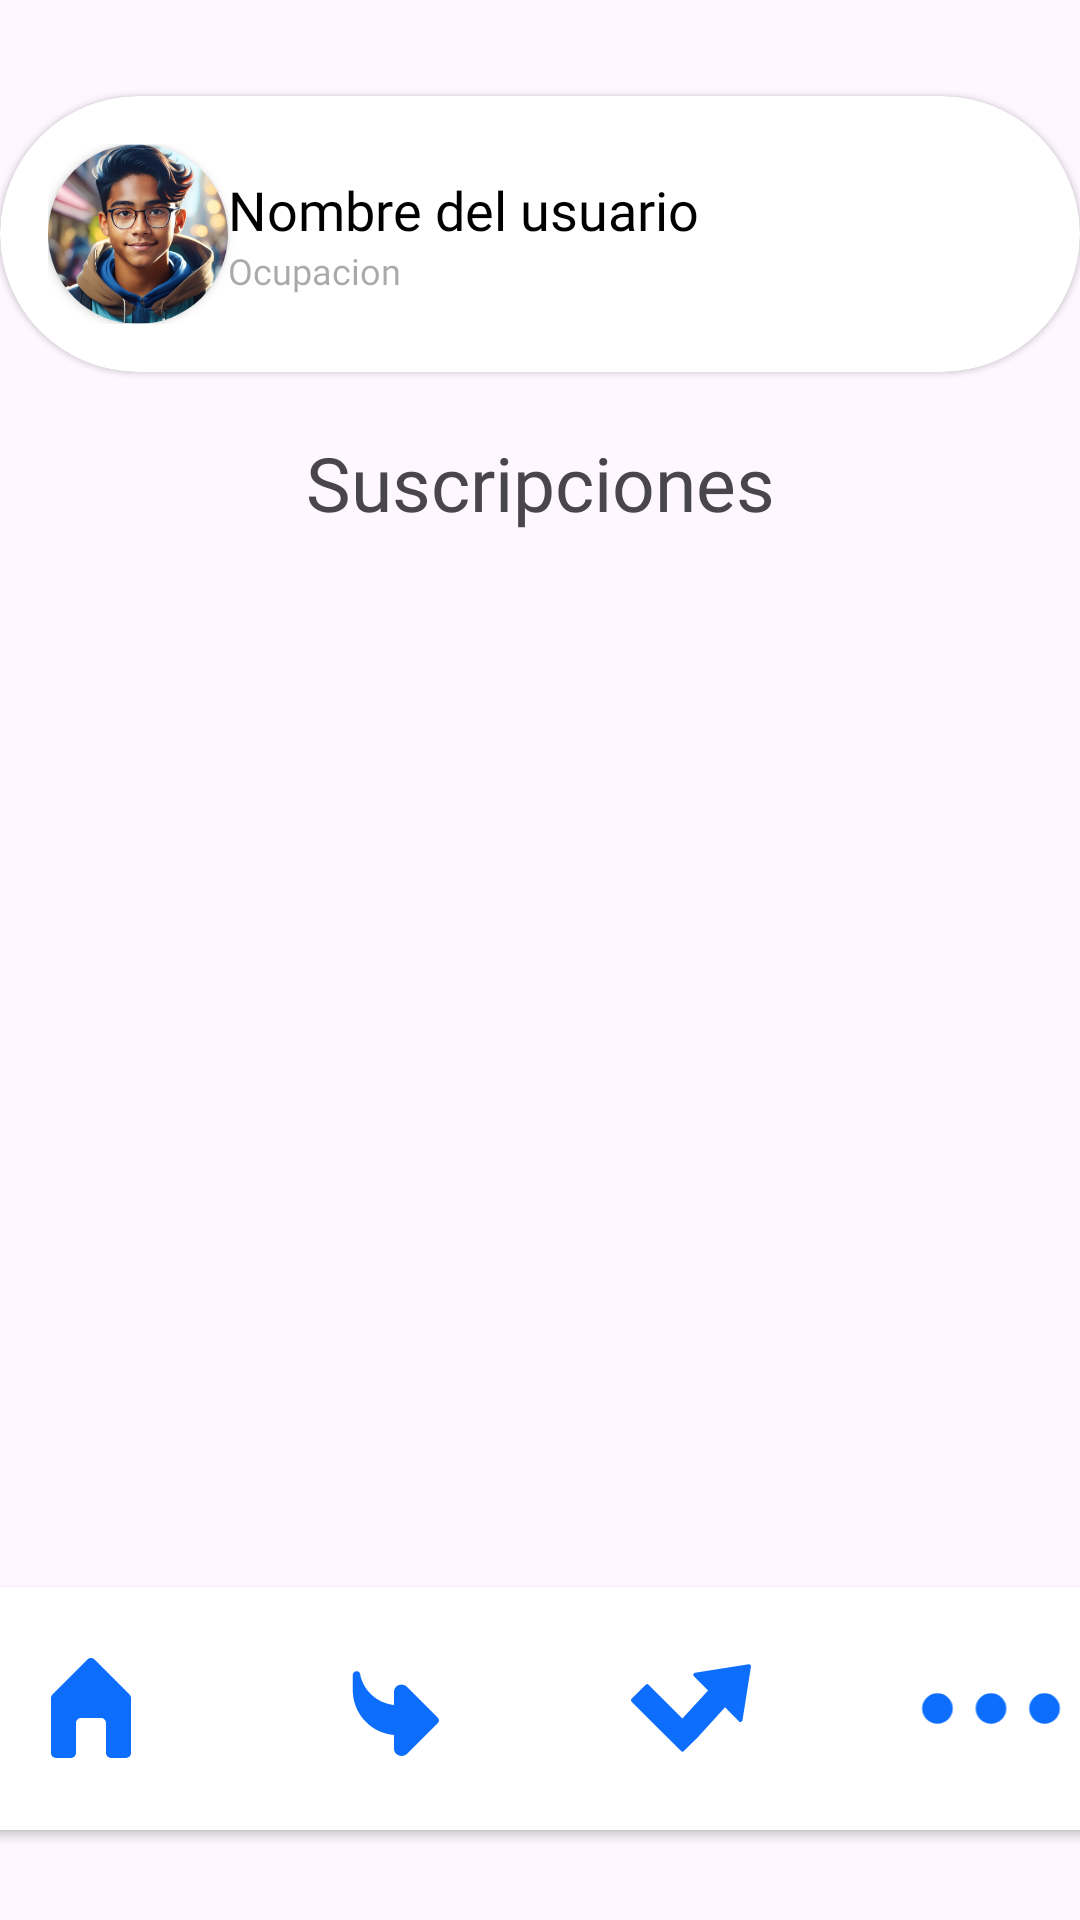

Where icons sit on this 1080×1920 app screen, as (left=x1, top=y1, right=x2, bottom=y2):
perfil: (left=48, top=144, right=228, bottom=324)
proximos: (left=352, top=1671, right=439, bottom=1756)
seguimiento: (left=631, top=1664, right=751, bottom=1752)
